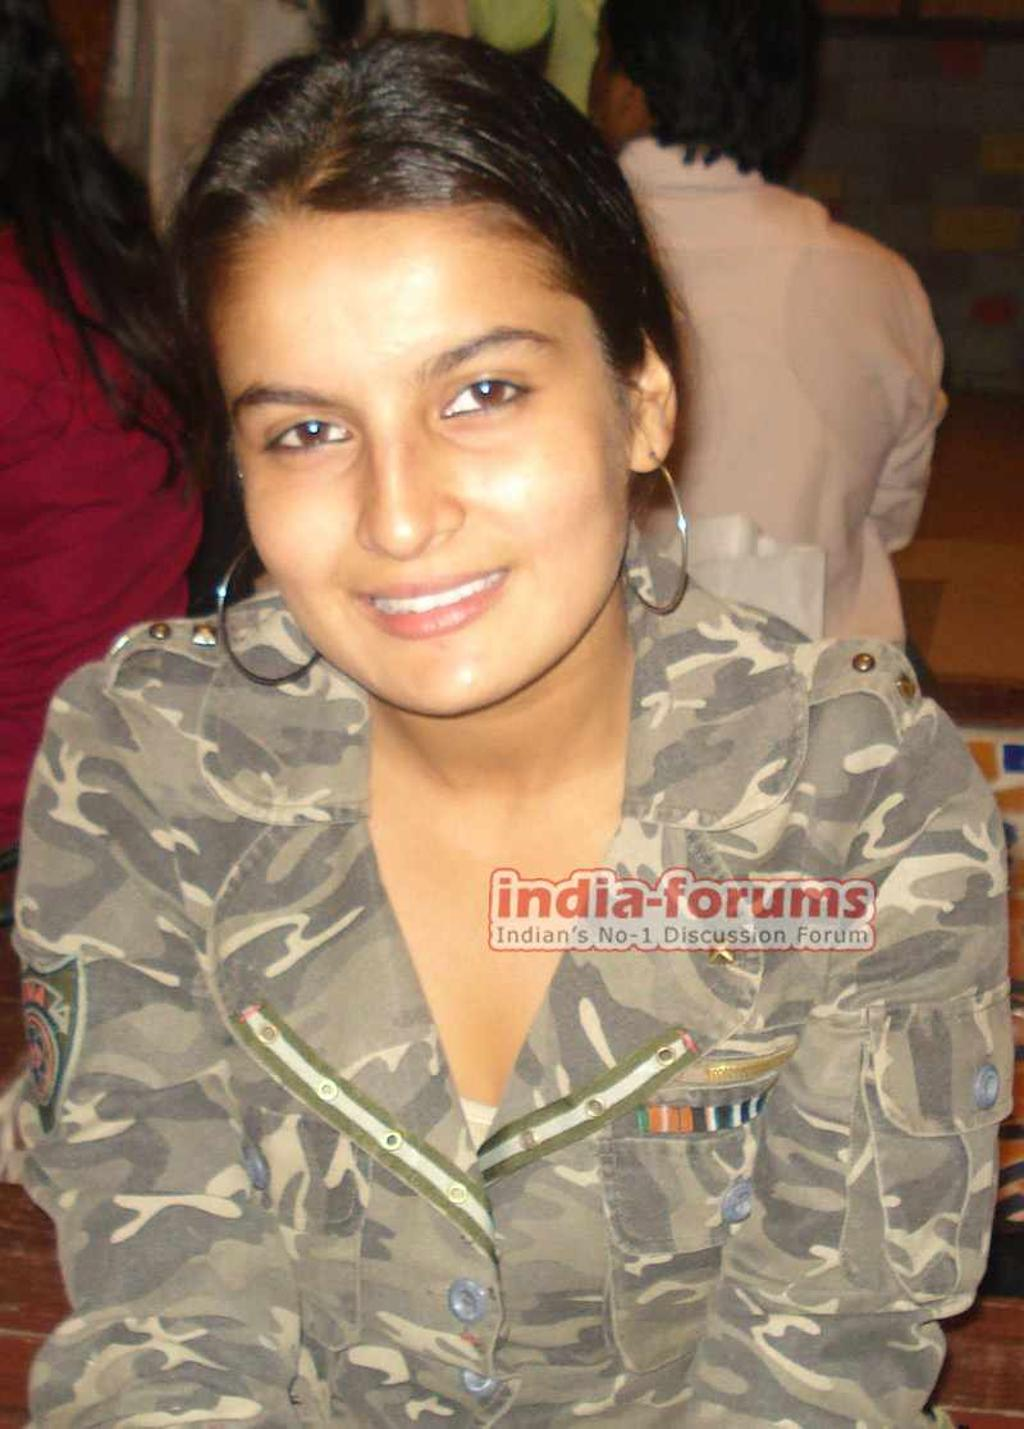face: (246, 206, 595, 705)
